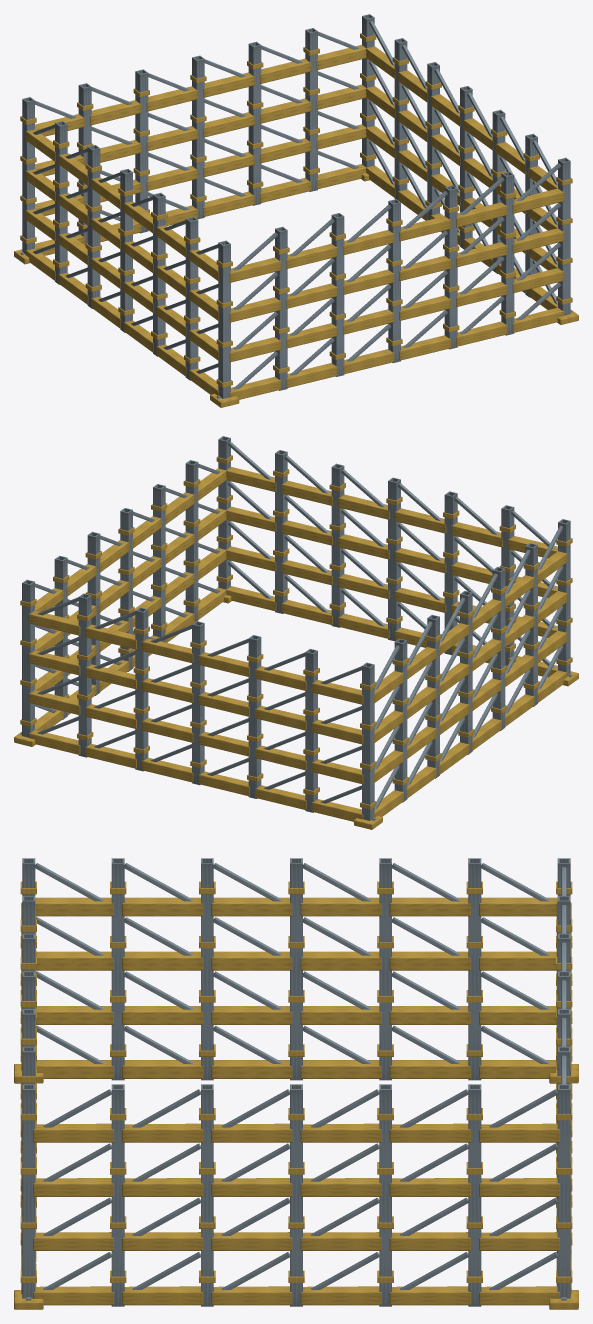
3 views of the same model, one above another, from view 1: azimuth 30°, elevation 25°; view 2: azimuth 150°, elevation 25°; view 3: azimuth 270°, elevation 25° (orthographic). The views are drawn at different scales.
Parts seen in each view (by area): view 1: Tier 0 side 0 post 0, Tier 0 side 2 post 2, Tier 0 side 0 post 5, Tier 0 side 2 post 3, Tier 0 side 0 post 2, Tier 0 side 2 post 1, Tier 0 side 0 post 4, Tier 0 side 0 post 1, Tier 0 side 0 post 3, Tier 0 side 1 post 0, Tier 0 side 3 post 5, Tier 0 side 3 post 2 (+55 smaller); view 2: Tier 0 side 3 post 0, Tier 0 side 2 post 1, Tier 0 side 2 post 2, Tier 0 side 2 post 4, Tier 0 side 2 post 5, Tier 0 side 0 post 4, Tier 0 side 2 post 0, Tier 0 side 2 post 3, Tier 0 side 0 post 3, Tier 0 side 0 post 5, Tier 0 side 1 post 1, Tier 0 side 0 post 2 (+56 smaller); view 3: Tier 0 side 1 post 0, Tier 0 side 2 post 0, Tier 0 side 3 post 1, Tier 0 side 3 post 5, Tier 0 side 1 post 1, Tier 0 side 1 post 5, Tier 0 side 3 post 4, Tier 0 side 3 post 2, Tier 0 side 3 post 3, Tier 0 side 1 post 2, Tier 0 side 1 post 4, Tier 0 side 1 post 3 (+48 smaller).
Part boxes in pixels (x1=…): Tier 0 side 0 post 0: x1=218, y1=240, x2=230, y2=398; Tier 0 side 2 post 2: x1=248, y1=41, x2=261, y2=205; Tier 0 side 0 post 5: x1=501, y1=171, x2=514, y2=335; Tier 0 side 2 post 3: x1=192, y1=55, x2=204, y2=219; Tier 0 side 0 post 2: x1=331, y1=213, x2=344, y2=376; Tier 0 side 2 post 1: x1=305, y1=28, x2=317, y2=191; Tier 0 side 0 post 4: x1=444, y1=185, x2=457, y2=349; Tier 0 side 0 post 1: x1=275, y1=226, x2=287, y2=390; Tier 0 side 0 post 3: x1=388, y1=199, x2=400, y2=362; Tier 0 side 1 post 0: x1=558, y1=157, x2=570, y2=315; Tier 0 side 3 post 5: x1=185, y1=216, x2=198, y2=380; Tier 0 side 3 post 2: x1=87, y1=145, x2=100, y2=308; Tier 0 side 3 post 0: x1=362, y1=662, x2=374, y2=820; Tier 0 side 2 post 1: x1=78, y1=593, x2=91, y2=757; Tier 0 side 2 post 2: x1=135, y1=607, x2=148, y2=771; Tier 0 side 2 post 4: x1=248, y1=635, x2=261, y2=798; Tier 0 side 2 post 5: x1=305, y1=649, x2=317, y2=812; Tier 0 side 0 post 4: x1=331, y1=463, x2=344, y2=627; Tier 0 side 2 post 0: x1=22, y1=579, x2=34, y2=737; Tier 0 side 2 post 3: x1=192, y1=621, x2=204, y2=785; Tier 0 side 0 post 3: x1=388, y1=477, x2=400, y2=641; Tier 0 side 0 post 5: x1=275, y1=450, x2=287, y2=613; Tier 0 side 1 post 1: x1=185, y1=460, x2=198, y2=621; Tier 0 side 0 post 2: x1=444, y1=491, x2=457, y2=655; Tier 0 side 1 post 0: x1=22, y1=1084, x2=35, y2=1298; Tier 0 side 2 post 0: x1=557, y1=1084, x2=570, y2=1298; Tier 0 side 3 post 1: x1=468, y1=858, x2=481, y2=1080; Tier 0 side 3 post 5: x1=111, y1=858, x2=124, y2=1080; Tier 0 side 1 post 1: x1=111, y1=1084, x2=124, y2=1306; Tier 0 side 1 post 5: x1=468, y1=1084, x2=481, y2=1306; Tier 0 side 3 post 4: x1=201, y1=858, x2=213, y2=1080; Tier 0 side 3 post 2: x1=379, y1=858, x2=391, y2=1080; Tier 0 side 3 post 3: x1=290, y1=858, x2=302, y2=1080; Tier 0 side 1 post 2: x1=201, y1=1084, x2=213, y2=1306; Tier 0 side 1 post 4: x1=379, y1=1084, x2=391, y2=1306; Tier 0 side 1 post 3: x1=290, y1=1084, x2=302, y2=1306.
Bounding box in the file's own units: 2.85 × 1.21 × 2.85.
Materials: 2 (2 with a texture image).
